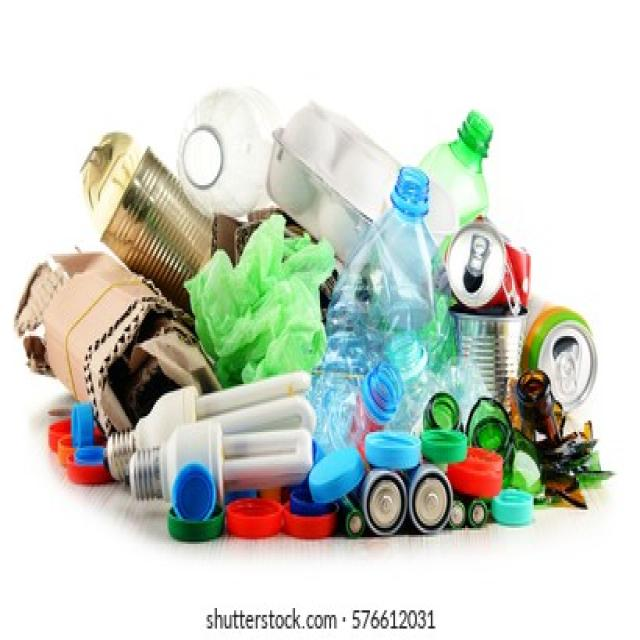cardboard: (53, 263, 137, 395)
glass: (183, 402, 298, 478), (520, 389, 588, 489)
metal: (461, 235, 529, 350), (106, 151, 173, 242), (367, 476, 445, 530)
plastic: (217, 272, 421, 359), (195, 98, 319, 208)
